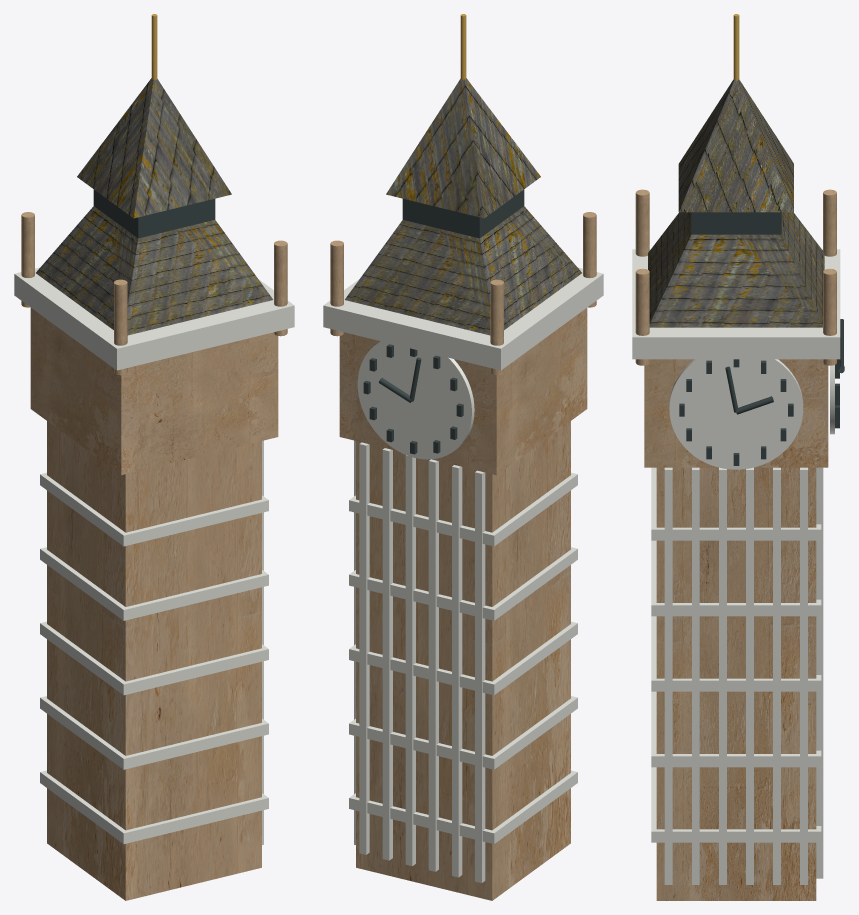
Rendered from BIG_BEN.glb.
3 renders of one model, left to right at view 1: azimuth 30°, elevation 25°; view 2: azimuth 150°, elevation 25°; view 3: azimuth 270°, elevation 25°, orthographic.
Visible parts, largest first — view 1: Cube.001, Cube.020, Cone, Cone.001, Cube.045, Cube.004, Cube.002, Cube.003, Cube.006, Cube.005, Cube.046, Cylinder.006 (+3 smaller); view 2: Cube.001, Cone, Cube.020, Cone.001, Cube.045, Cylinder, Cube.010, Cube.012, Cube.013, Cube.011, Cube.008, Cube.009 (+10 smaller); view 3: Cube.001, Cone, Cylinder.003, Cone.001, Cube.020, Cube.045, Cube.014, Cube.015, Cube.018, Cube.019, Cube.017, Cube.016 (+12 smaller).
Boxes of the visible parts, x1,y1,x2,y2 form: Cube.001: (47,421,261,900); Cube.020: (30,308,278,475); Cone: (36,206,272,335); Cone.001: (77,78,231,218); Cube.045: (14,267,294,370); Cube.004: (40,621,268,695); Cube.002: (40,770,268,843); Cube.003: (40,696,268,769); Cube.006: (40,472,268,546); Cube.005: (40,547,268,620); Cube.046: (93,189,215,238); Cylinder.006: (114,279,127,375); Cube.001: (356,421,570,900); Cone: (345,206,581,335); Cube.020: (339,308,587,475); Cone.001: (386,78,540,218); Cube.045: (323,267,603,370); Cylinder: (357,341,474,459); Cube.010: (428,459,438,871); Cube.012: (382,448,392,860); Cube.013: (359,442,369,854); Cube.011: (405,455,415,866); Cube.008: (475,470,485,883); Cube.009: (452,465,462,877); Cube.001: (656,467,816,900); Cone: (648,212,824,327); Cylinder.003: (669,359,803,469); Cone.001: (678,79,793,212); Cube.020: (644,359,828,467); Cube.045: (632,249,840,359); Cube.014: (664,467,672,884); Cube.015: (692,467,699,884); Cube.018: (773,467,780,884); Cube.019: (800,467,807,884); Cube.017: (746,467,753,884); Cube.016: (719,467,726,884).
Size of what is drawn, in the model's own units: 0.612 by 2.71 by 0.612.
5 materials, 2 textured.
